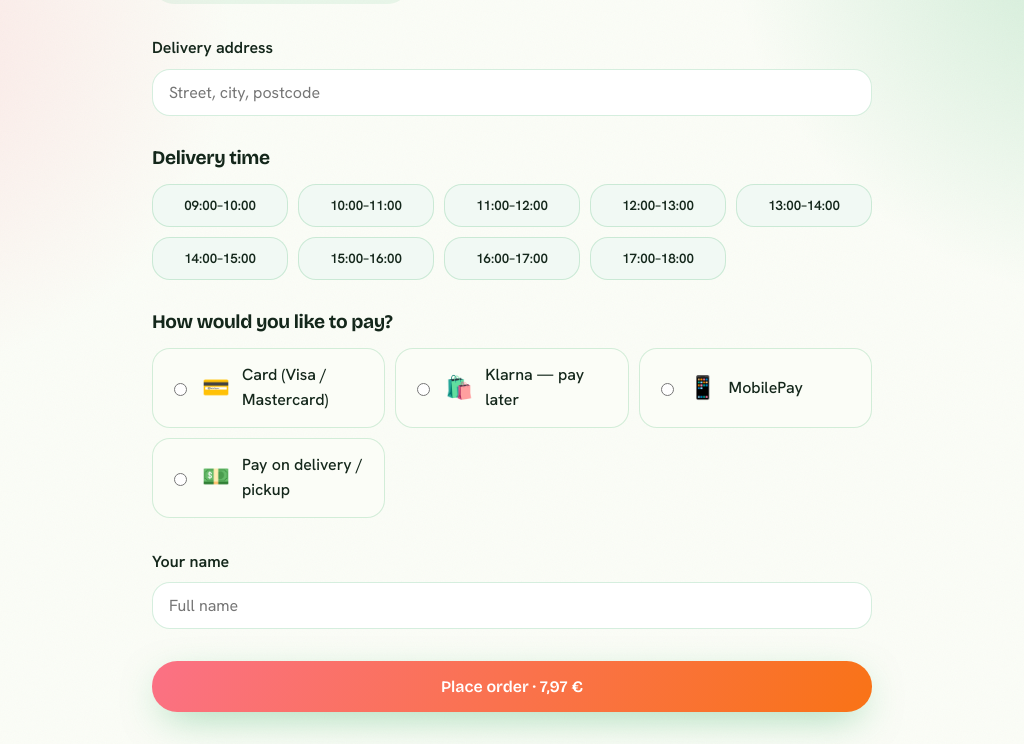
Test: CheckoutForm › places a valid delivery order and shows confirmation
This screenshot has width=1024, height=744.
(page scrolled)
Step 1. Type "Aino" into the field labelled "Your name" → (512, 606), box [152,582,872,629]
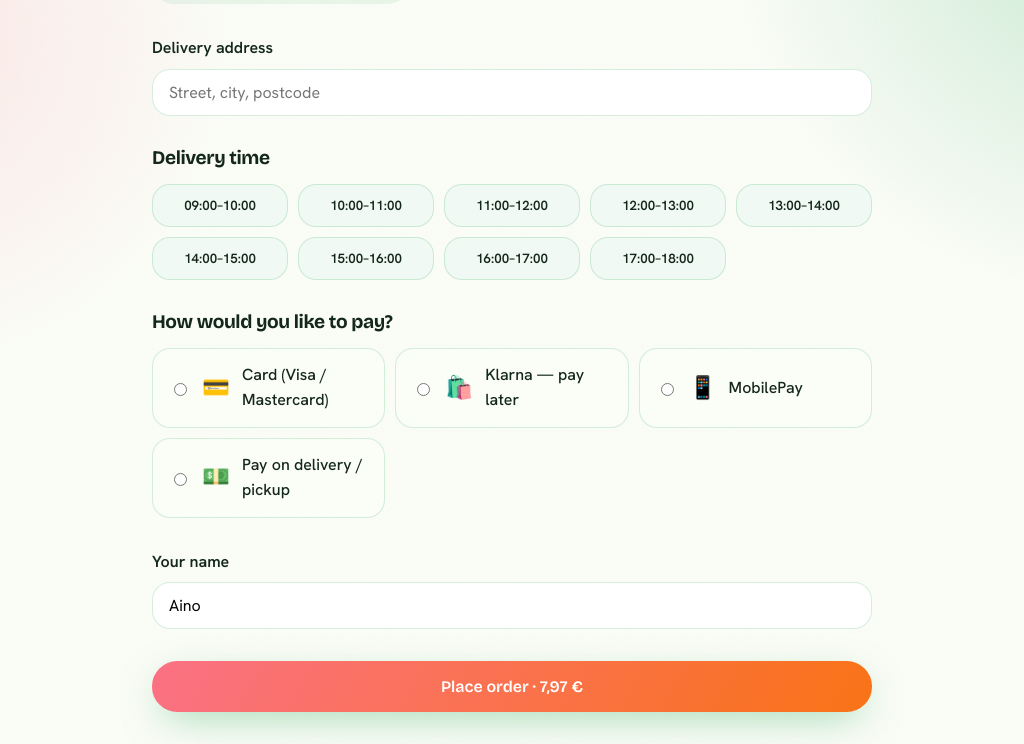
Step 2. Type "Mannerheimintie 1" into the field labelled "Delivery address" → (512, 93), box [152,69,872,116]
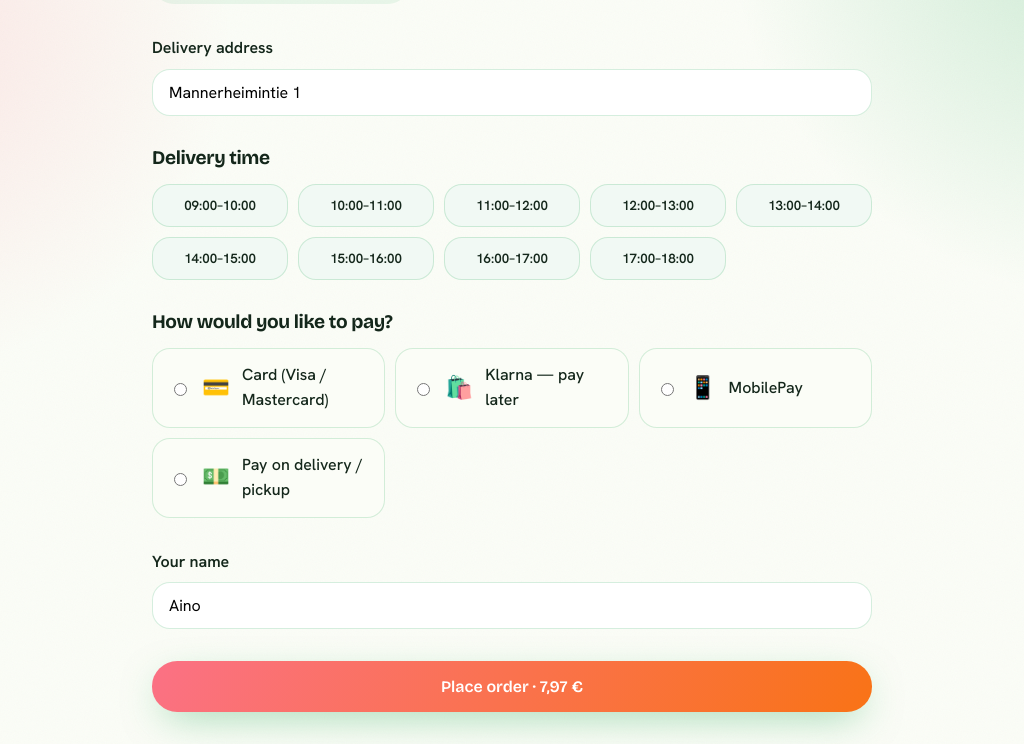
Step 3. Click the button "09:00–10:00" → (220, 206), box [152,184,288,227]
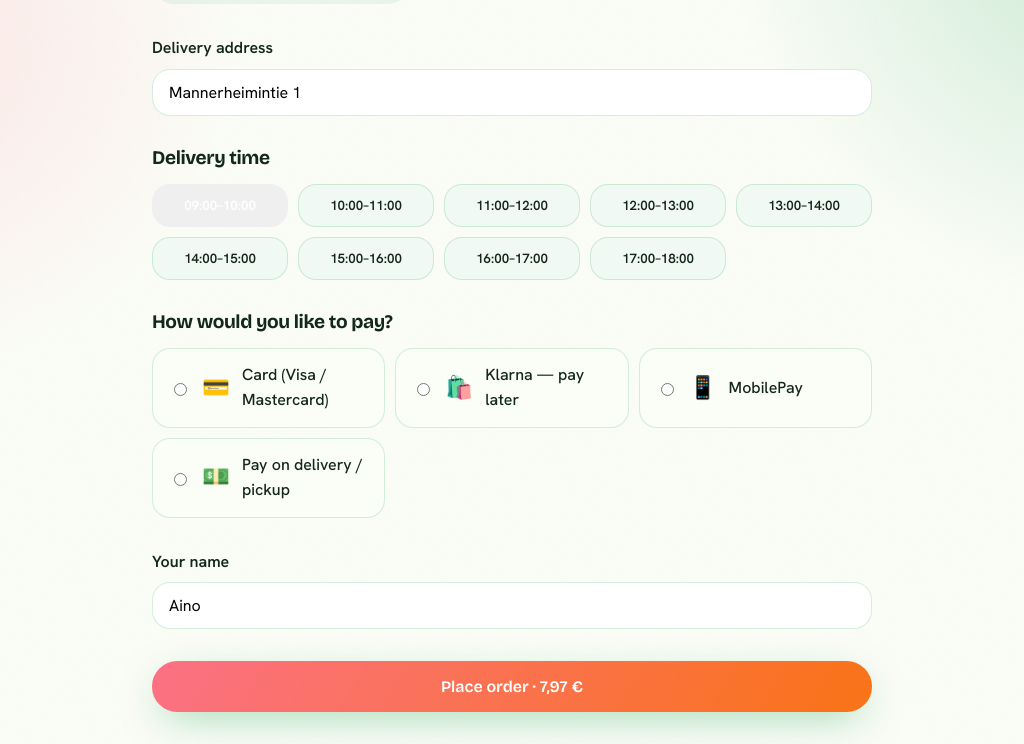
Step 4. Click the radio button labelled "💳 Card (Visa / Mastercard)" → (180, 390), box [174,383,187,396]
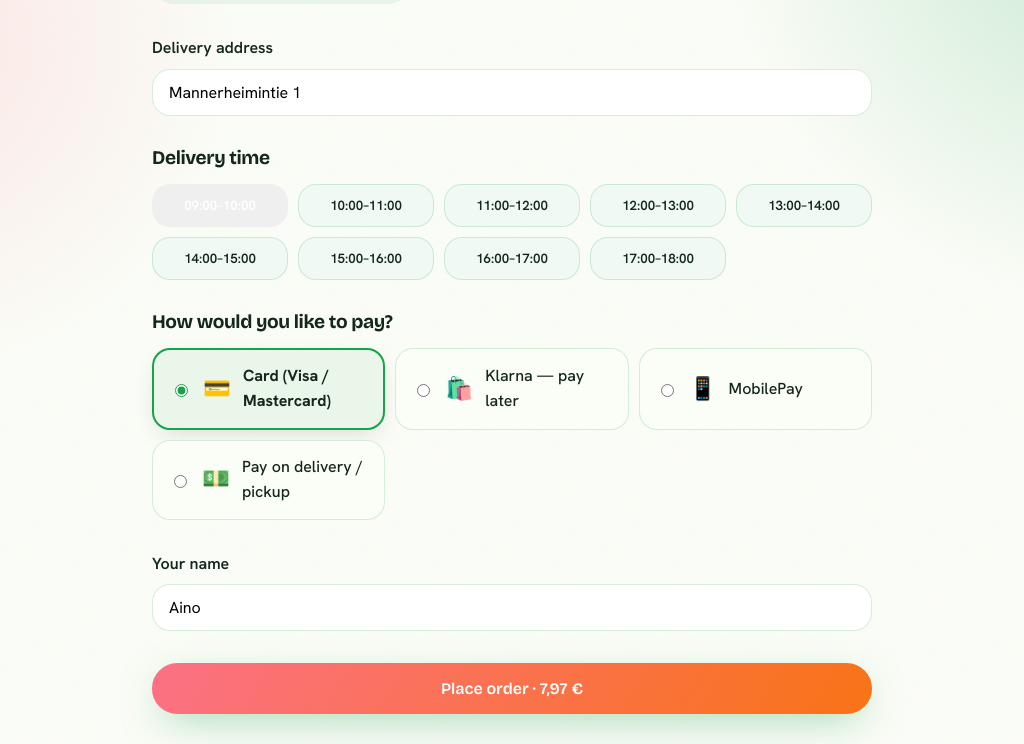
Step 5. Click the button "Place order · 7,97 €" → (512, 689), box [152,663,872,714]
(page scrolled)
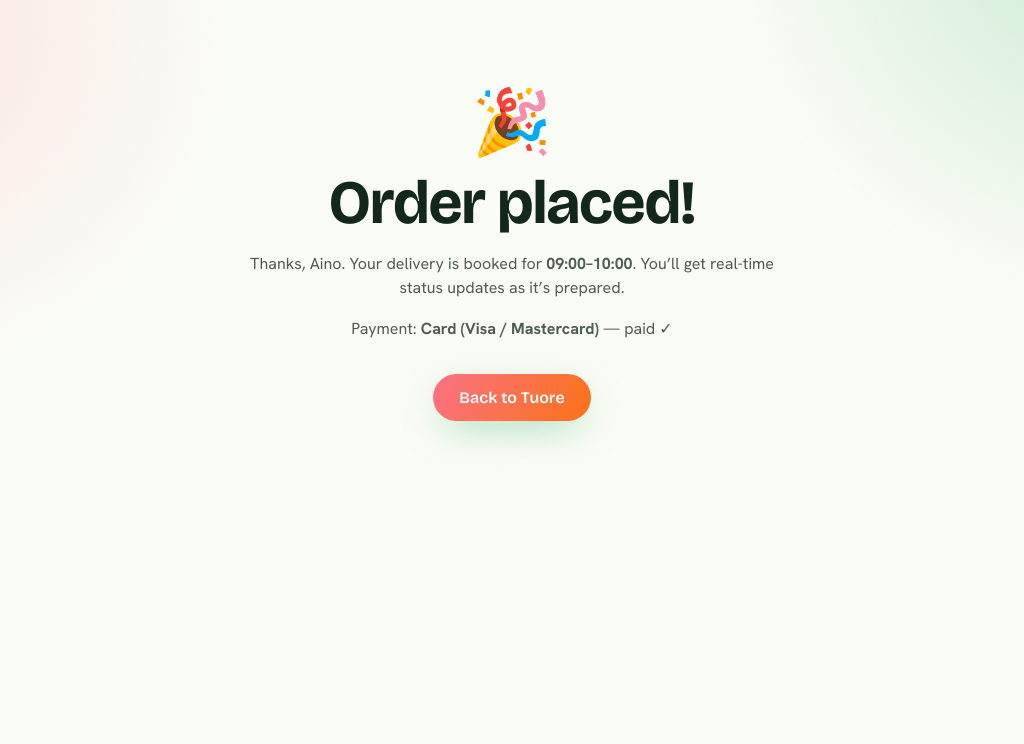
Check: the text "09:00–10:00" is shown, box [546,253,632,274]
Check: the heading "Order placed!" is shown, box [329,166,695,240]
